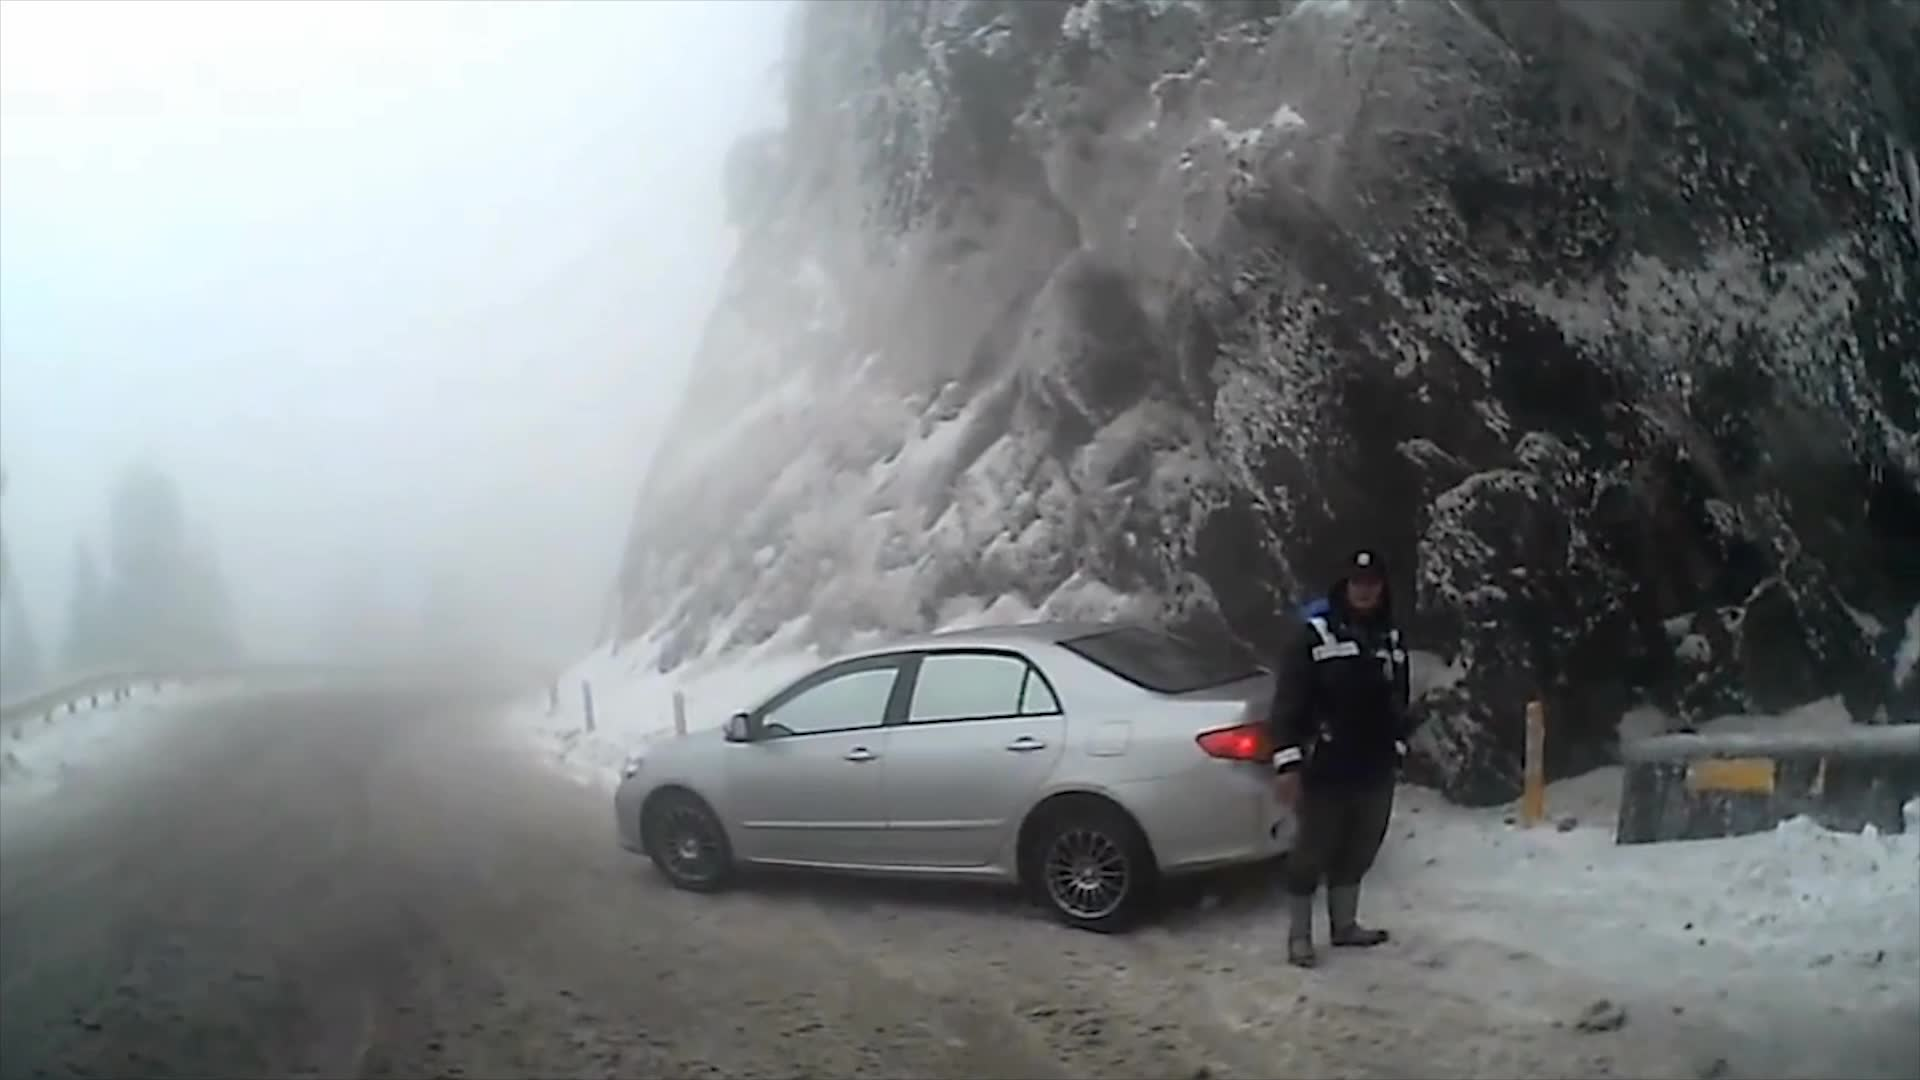pedestrian: (1270, 548, 1411, 974)
vehicle: (619, 625, 1374, 939)
